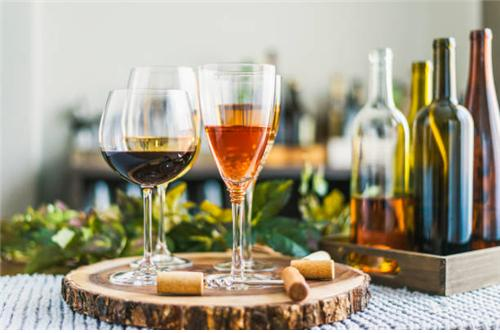alcohol: (99, 89, 195, 286), (199, 64, 276, 289), (125, 68, 203, 269), (211, 75, 282, 270), (413, 38, 474, 255), (350, 47, 412, 251), (464, 29, 500, 251), (406, 61, 435, 194), (282, 81, 317, 147)
